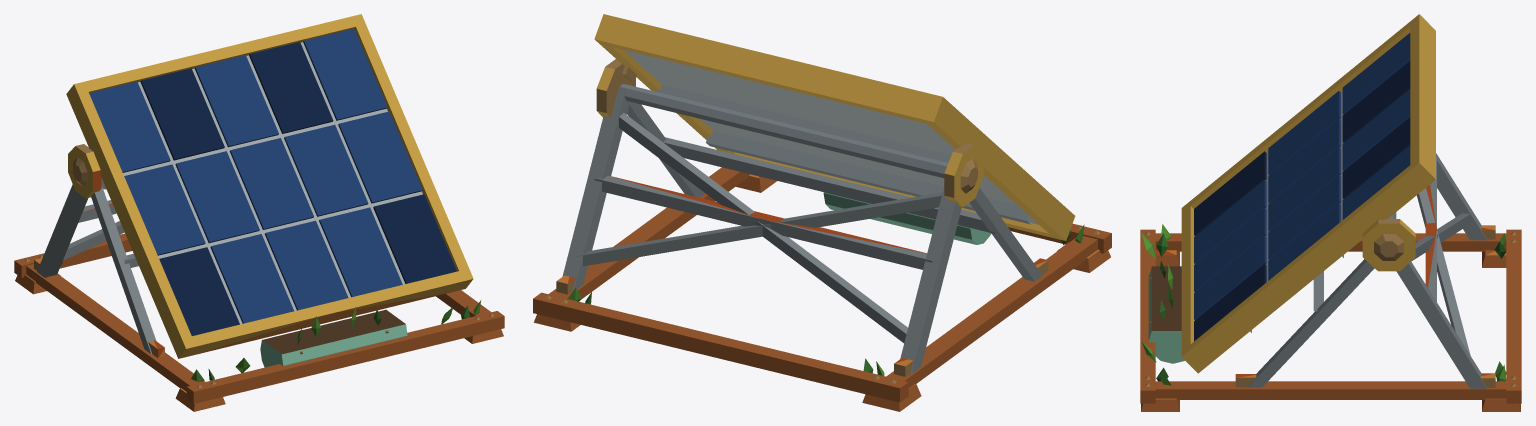
File: roof-solar-array-c4b996.glb
3 renders of one model, left to right at view 1: azimuth 30°, elevation 25°; view 2: azimuth 150°, elevation 25°; view 3: azimuth 270°, elevation 25°, orthographic. The views are drawn at different scales.
Parts seen in each view (by area): view 1: panel-shell, array-frame; view 2: array-frame, panel-shell; view 3: panel-shell, array-frame.
Part boxes in pixels (x1,y1,x2,y2): panel-shell: (66,14,473,358); array-frame: (14,178,504,411); array-frame: (533,83,1111,411); panel-shell: (594,14,1075,240); panel-shell: (1181,14,1435,373); array-frame: (1140,153,1521,411).
Size of the model in its own units: 4 by 2.82 by 4.
